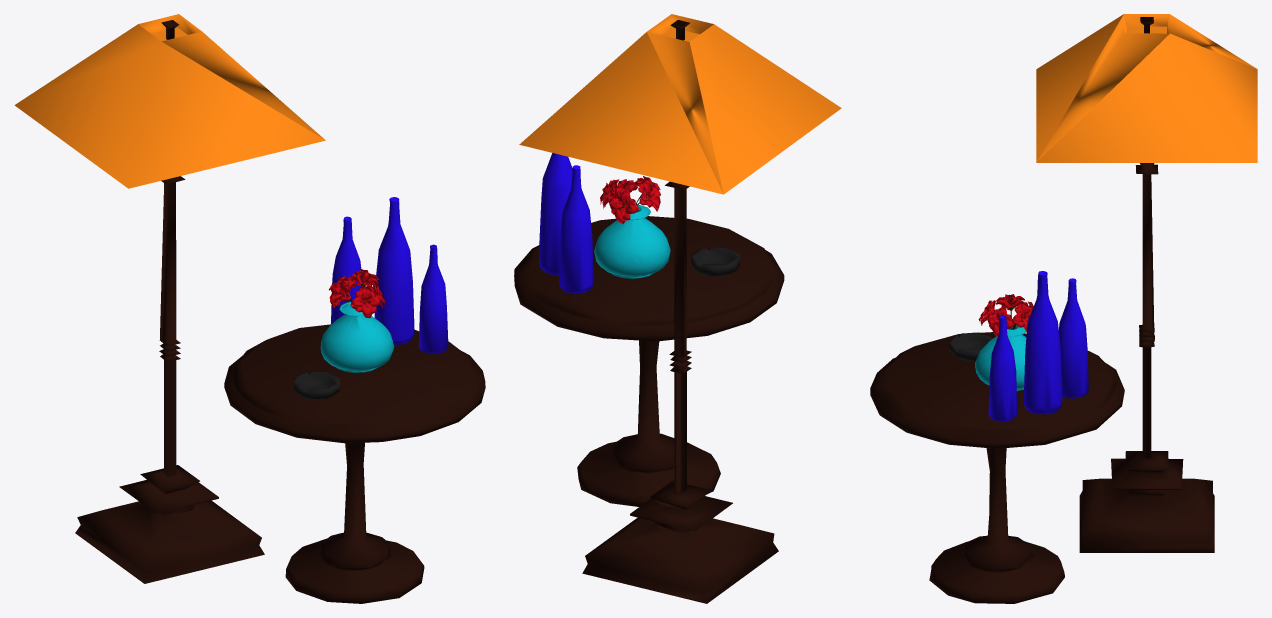
Rendered from table_2.obj.
The picture shows the model from 3 angles, left to right: view 1: azimuth 30°, elevation 25°; view 2: azimuth 150°, elevation 25°; view 3: azimuth 270°, elevation 25°; orthographic projection. The views are drawn at different scales.
Visible parts, largest first — view 1: Lamp_Top.003_Cube.005, Lamp_Top.002_Cube.004, Lamp_Top.004_Cube.006, Lamp_Top.008_Cube.010, Lamp_Top.001_Cube.002, Lamp_Top.007_Cube.009, Lamp_Top.009_Cube.011; view 2: Lamp_Top.003_Cube.005, Lamp_Top.002_Cube.004, Lamp_Top.004_Cube.006, Lamp_Top.001_Cube.002, Lamp_Top.008_Cube.010, Lamp_Top.007_Cube.009, Lamp_Top.009_Cube.011; view 3: Lamp_Top.003_Cube.005, Lamp_Top.002_Cube.004, Lamp_Top.004_Cube.006, Lamp_Top.001_Cube.002, Lamp_Top.008_Cube.010, Lamp_Top.007_Cube.009, Lamp_Top.009_Cube.011.
Boxes of the visible parts, x1,y1,x2,y2 form: Lamp_Top.003_Cube.005: (75, 20, 485, 603); Lamp_Top.002_Cube.004: (14, 24, 325, 188); Lamp_Top.004_Cube.006: (331, 197, 448, 353); Lamp_Top.008_Cube.010: (320, 301, 394, 372); Lamp_Top.001_Cube.002: (138, 14, 324, 139); Lamp_Top.007_Cube.009: (329, 269, 385, 318); Lamp_Top.009_Cube.011: (293, 371, 340, 400); Lamp_Top.003_Cube.005: (514, 20, 784, 603); Lamp_Top.002_Cube.004: (519, 24, 841, 194); Lamp_Top.004_Cube.006: (539, 153, 593, 293); Lamp_Top.001_Cube.002: (647, 14, 723, 193); Lamp_Top.008_Cube.010: (594, 204, 670, 278); Lamp_Top.007_Cube.009: (600, 176, 660, 224); Lamp_Top.009_Cube.011: (690, 247, 740, 277); Lamp_Top.003_Cube.005: (870, 17, 1214, 603); Lamp_Top.002_Cube.004: (1036, 14, 1257, 162); Lamp_Top.004_Cube.006: (988, 271, 1088, 421); Lamp_Top.001_Cube.002: (1037, 14, 1256, 161); Lamp_Top.008_Cube.010: (975, 324, 1026, 391); Lamp_Top.007_Cube.009: (978, 294, 1033, 337); Lamp_Top.009_Cube.011: (948, 332, 992, 361).
Size of the model in its own units: 4.79 by 7.44 by 5.17.
